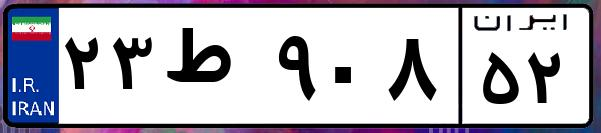0: (330, 28, 385, 110)
2: (57, 26, 110, 100), (525, 38, 570, 115)
3: (110, 28, 158, 98)
5: (475, 38, 525, 113)
8: (385, 28, 445, 110)
9: (270, 28, 330, 110)
ط: (158, 20, 270, 120)
